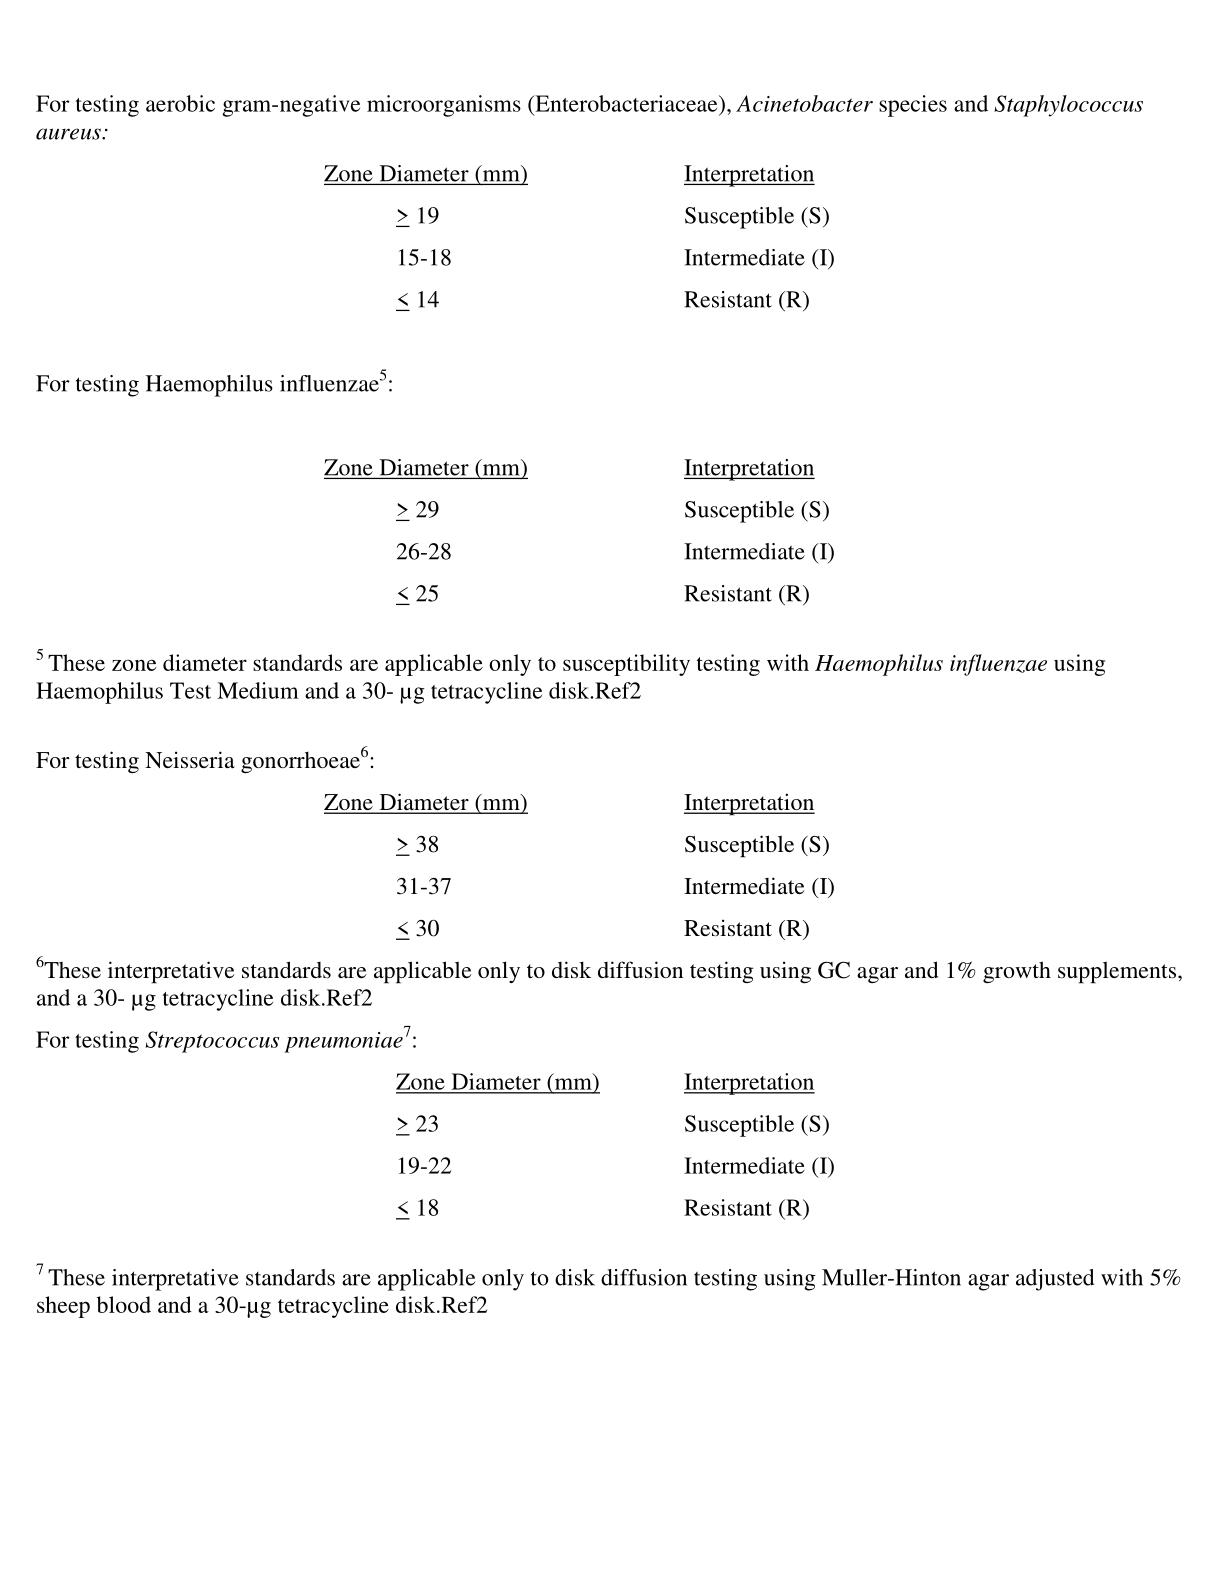nolines: (316, 786, 836, 944), (321, 450, 840, 606), (318, 157, 838, 311), (388, 1065, 840, 1224)
